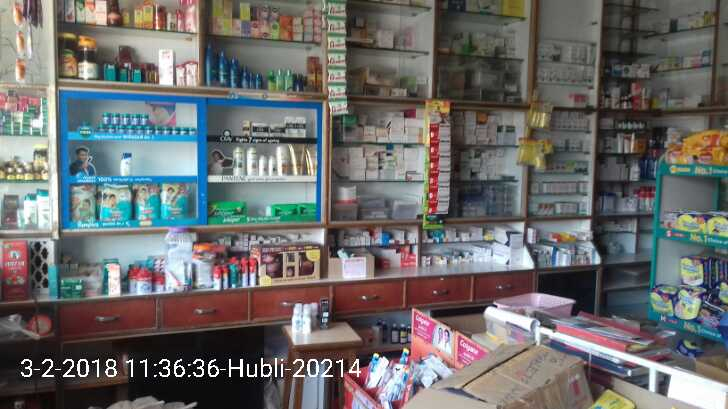beauty: (288, 141, 306, 175), (245, 143, 258, 178), (277, 143, 289, 176), (232, 146, 245, 176), (306, 142, 317, 174), (121, 152, 134, 178), (250, 124, 269, 139), (268, 154, 279, 177), (257, 153, 268, 176), (268, 122, 283, 138), (295, 117, 306, 138), (284, 117, 295, 137)
pharmacy: (97, 186, 132, 221), (158, 182, 190, 218), (131, 183, 160, 218), (70, 187, 96, 220), (209, 201, 246, 216), (267, 202, 299, 215), (298, 204, 316, 213), (130, 113, 141, 126), (112, 111, 121, 125), (121, 113, 130, 126), (103, 112, 112, 125), (141, 113, 150, 124)
